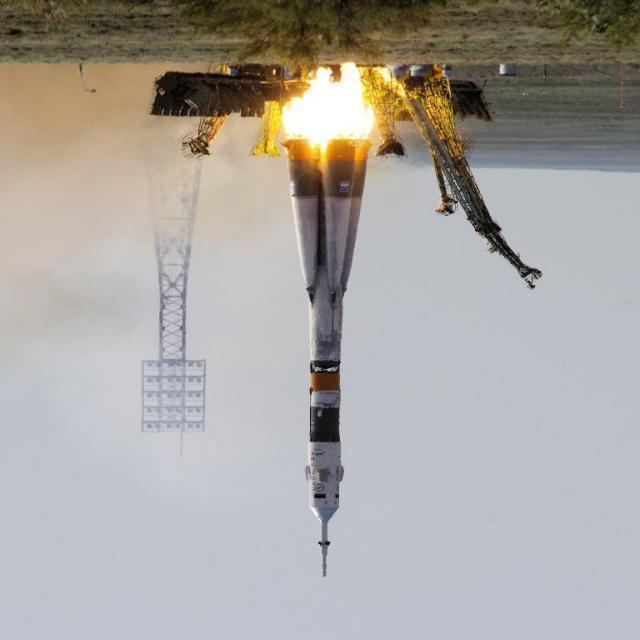missile: (279, 135, 372, 575)
